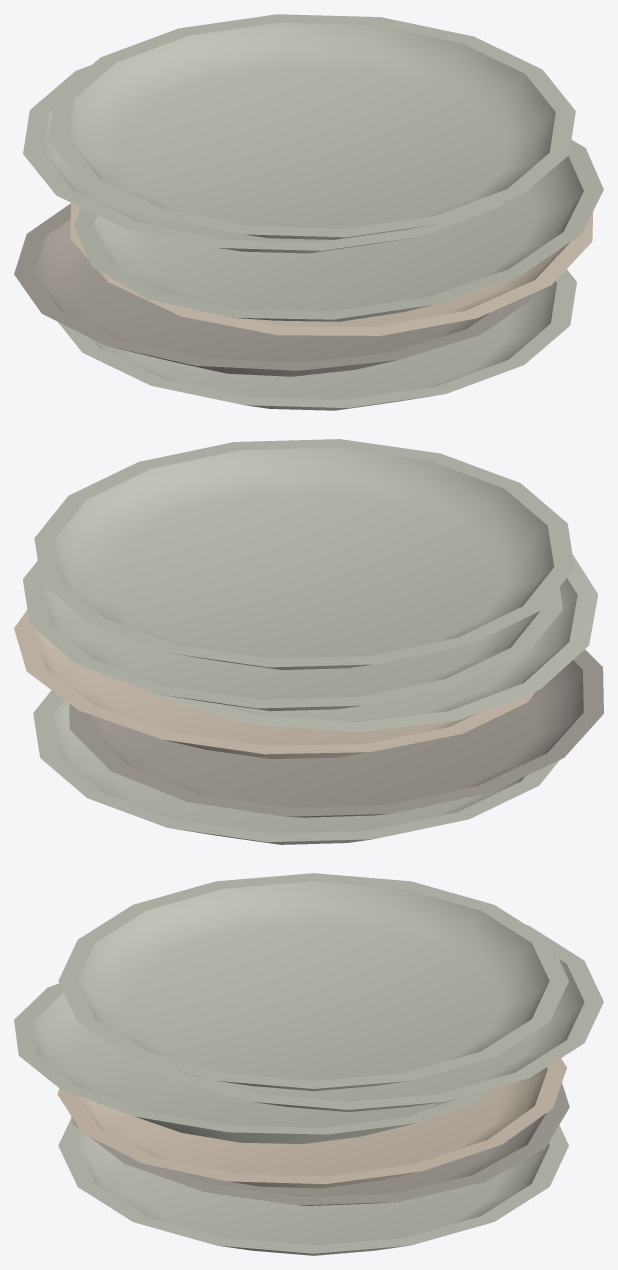
The model's file is plates.fbx.
The picture shows the model from 3 angles, top to bottom: view 1: azimuth 30°, elevation 25°; view 2: azimuth 150°, elevation 25°; view 3: azimuth 270°, elevation 25°; orthographic projection. The views are drawn at different scales.
Parts seen in each view (by area): view 1: plates; view 2: plates; view 3: plates.
Boxes of the visible parts, <box> form: plates: <box>14,14,603,410</box>; plates: <box>14,439,603,844</box>; plates: <box>14,873,603,1255</box>.
Size of the model in its own units: 31.11 by 12.49 by 32.39.
